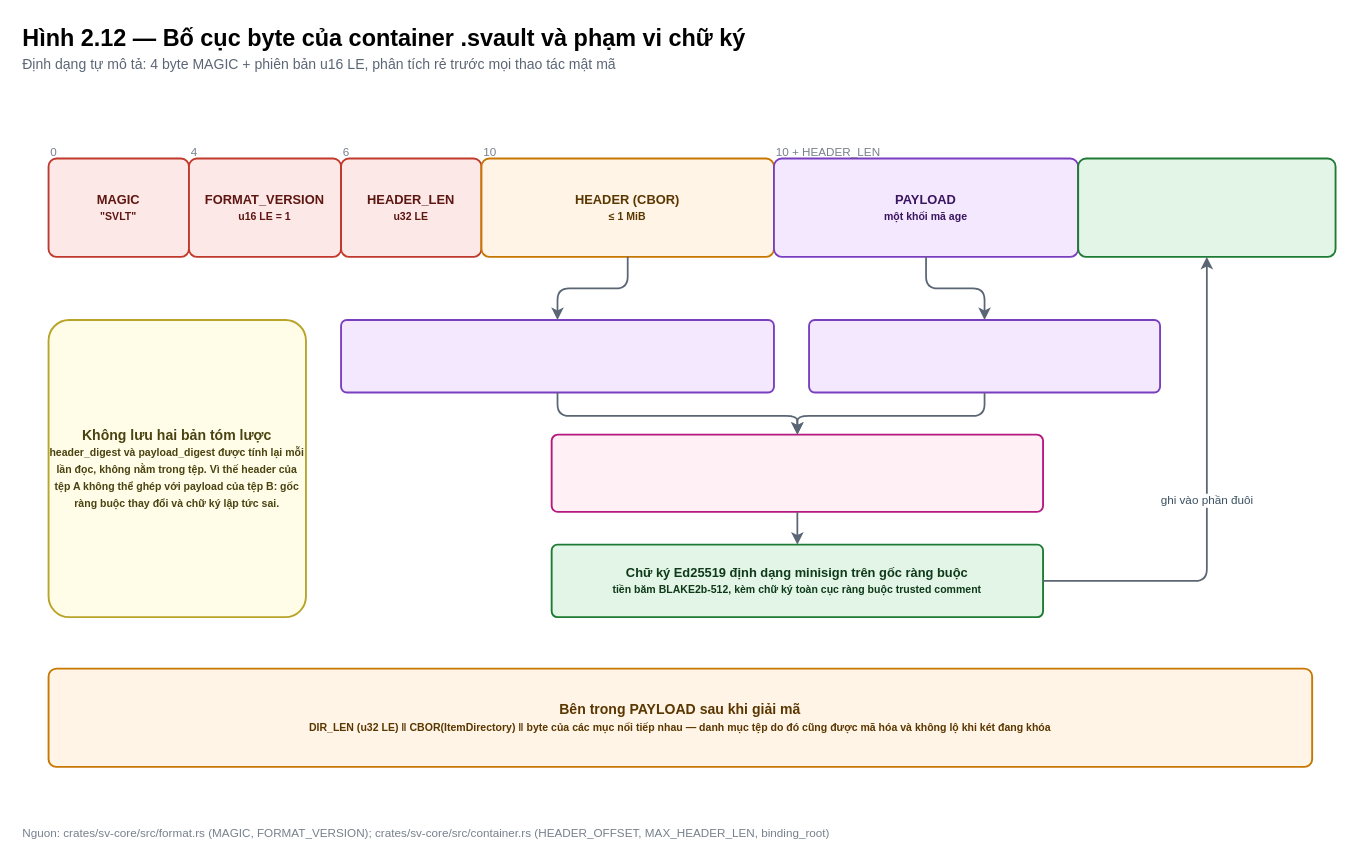
The diagram is 1360 pixels wide and 860 high, and some of its shapes have lost their labels. The box of each missing label's shape, as (x1, y1, x2, y2) in pixels:
Gốc ràng buộc = BLAKE3(header_digest ‖ payload_digest): (550, 433, 1043, 512)
header_digest = BLAKE3(byte 0 … 10+HEADER_LEN): (340, 318, 774, 393)
payload_digest = BLAKE3(PAYLOAD): (808, 318, 1160, 393)
SIG_TRAILER định dạng minisign: (1077, 157, 1336, 257)
